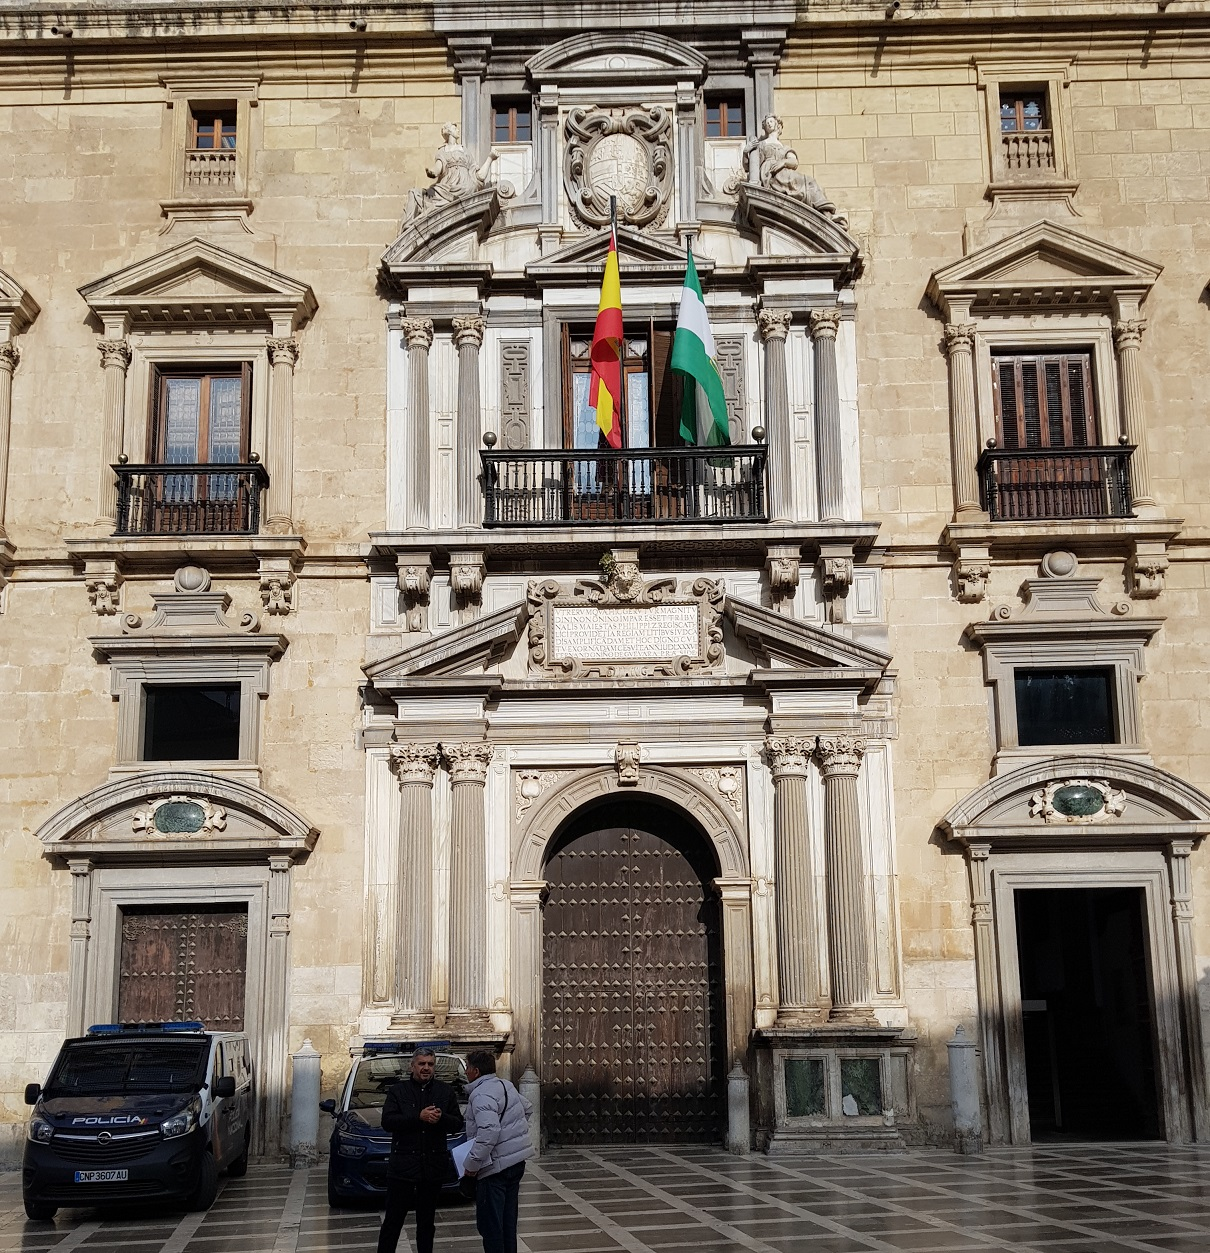arco-medio-punto: (526, 779, 738, 936)
fronton: (926, 217, 1168, 308), (68, 237, 314, 318), (524, 220, 713, 282)
fronton-curvo: (516, 25, 706, 91)
fronton-partido: (356, 586, 899, 696), (380, 179, 869, 277)
vano-adintelado: (987, 865, 1183, 1144), (971, 324, 1123, 522), (126, 341, 264, 545), (92, 875, 266, 1030)
